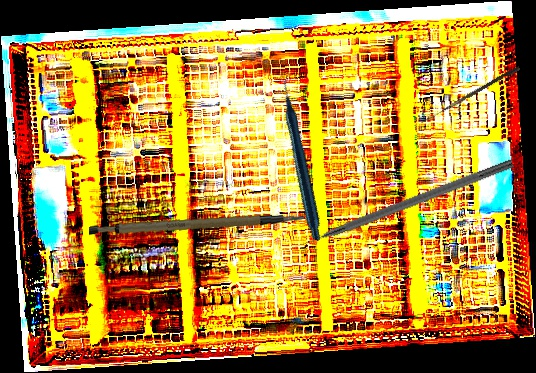Handpiece: (229, 73, 378, 242)
Hook Surgical: (286, 156, 515, 255), (420, 64, 521, 128)
Scalpel Handle: (88, 195, 305, 257)
